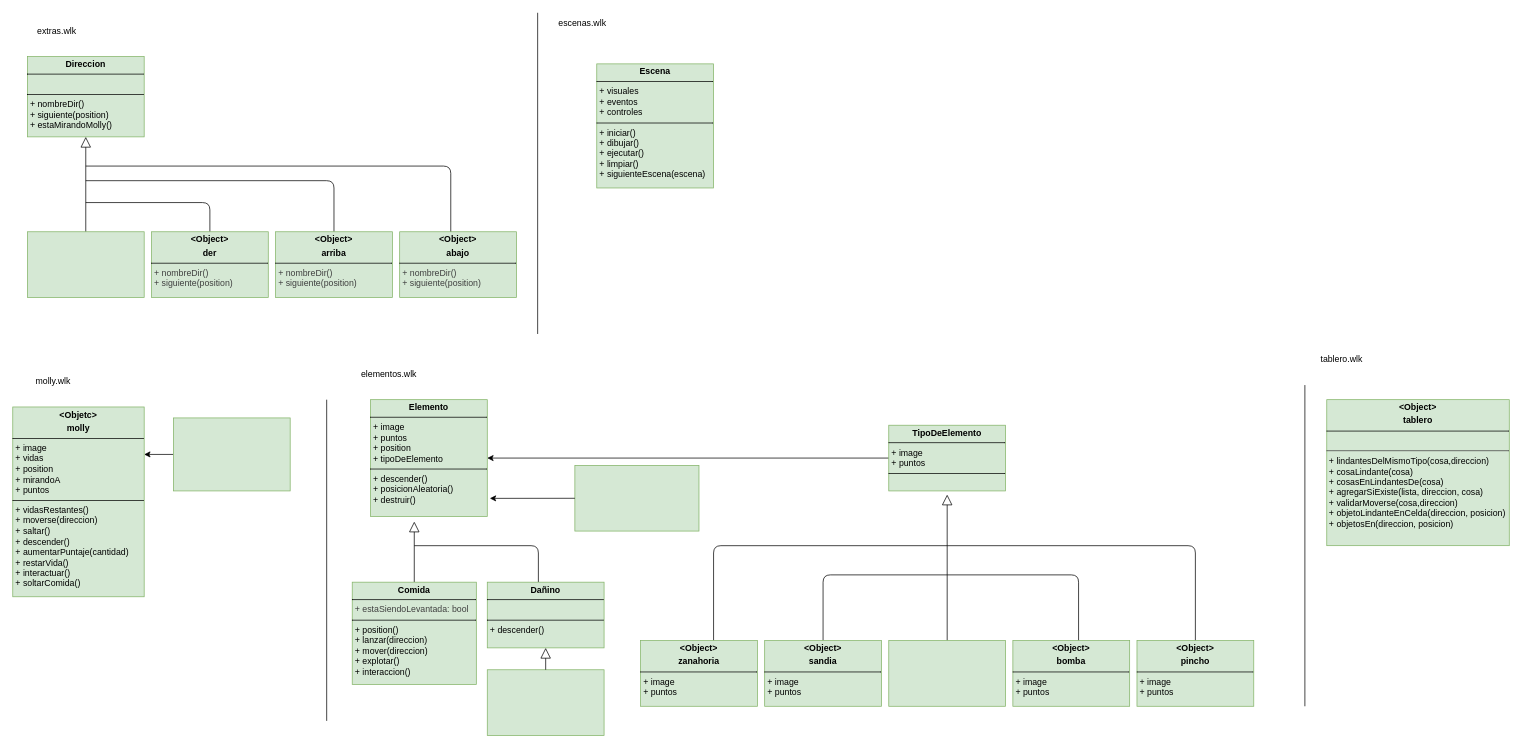
The diagram is 1522 pixels wide and 748 high, and some of its shapes have lost their labels. Each missing label, with the centre of its shape:
"<Object> corazones + list = [vidas]" belongs at (231,454).
"<Object> izq + nombreDir() + siguiente(position)" belongs at (85,264).
"<Object> manzana + image + puntos" belongs at (947,673).
"Bomba + destruir()" belongs at (545,702).
"Explosion + image + position + spawnear()" belongs at (636,498).
